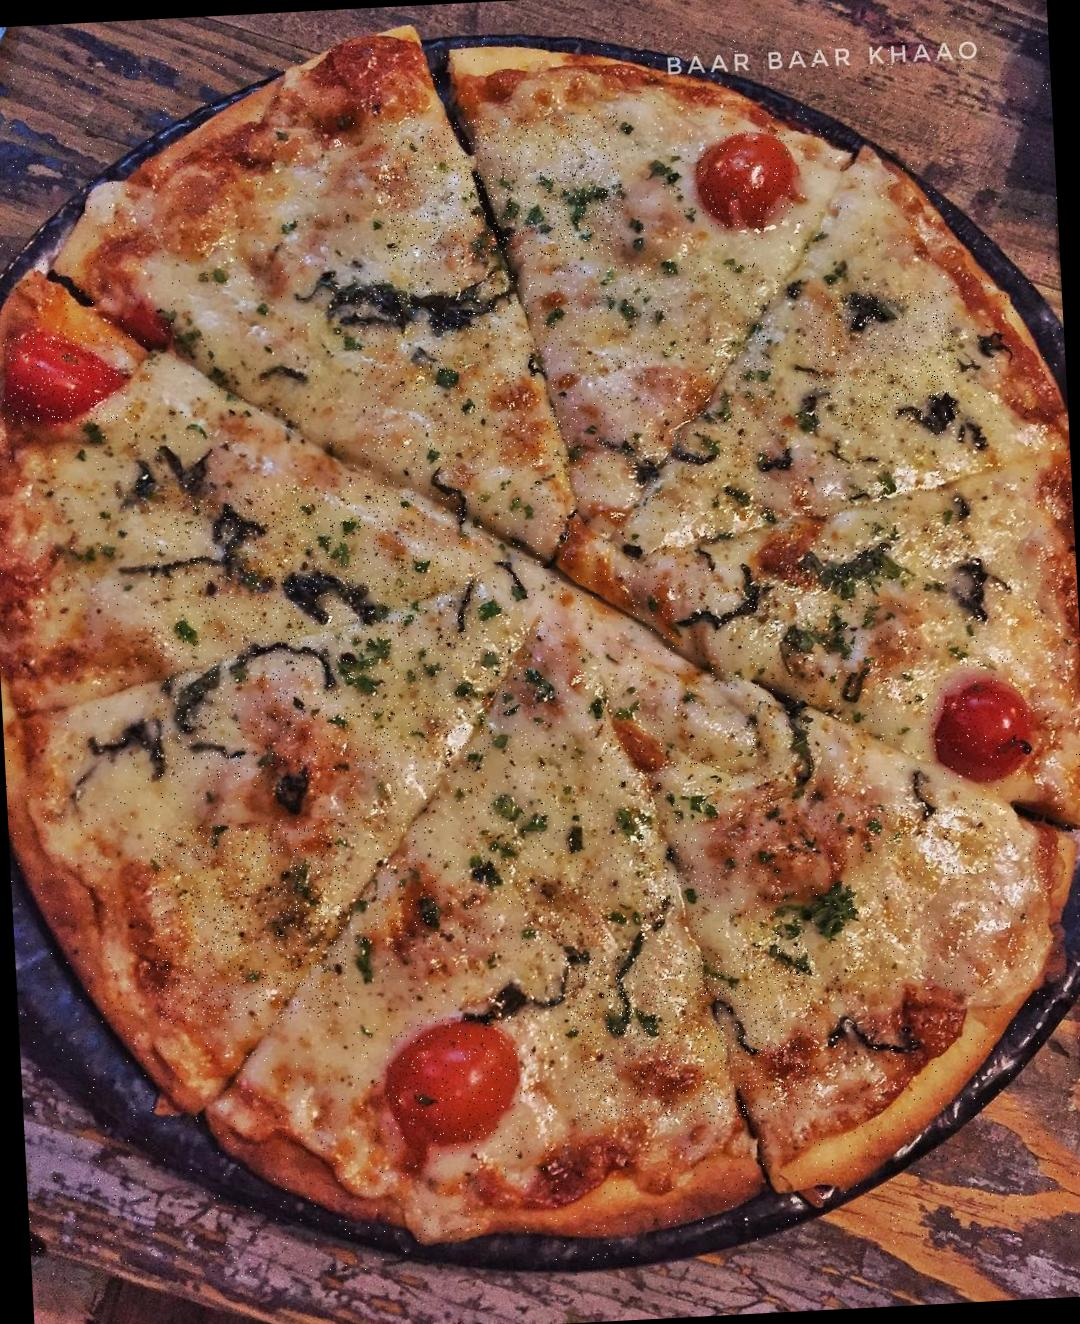Cheese: (471, 455, 901, 766), (141, 478, 486, 784), (353, 257, 780, 483), (342, 753, 790, 958), (569, 947, 822, 1128), (148, 818, 351, 1026), (172, 265, 355, 484), (378, 113, 625, 266), (824, 799, 999, 1001), (804, 289, 958, 431)
Pizza: (0, 5, 1080, 1289)
Tomatoes: (385, 1014, 524, 1152), (2, 328, 131, 430), (922, 678, 1038, 780), (698, 130, 793, 227)
